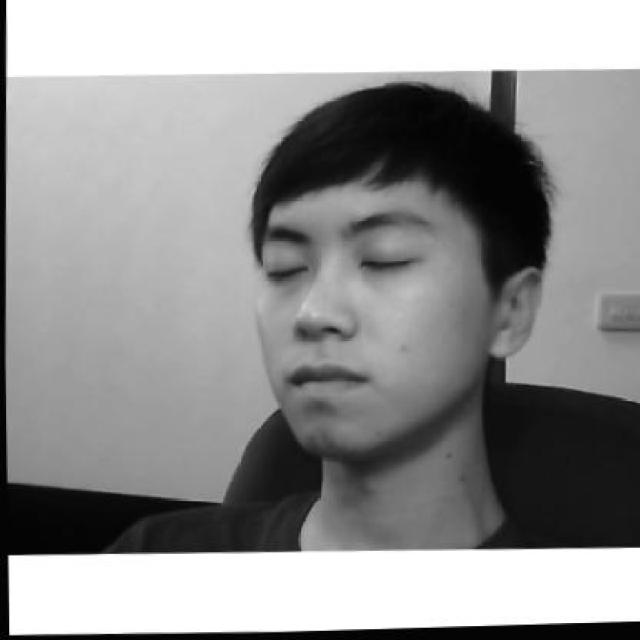inattentif: (248, 77, 544, 458)
